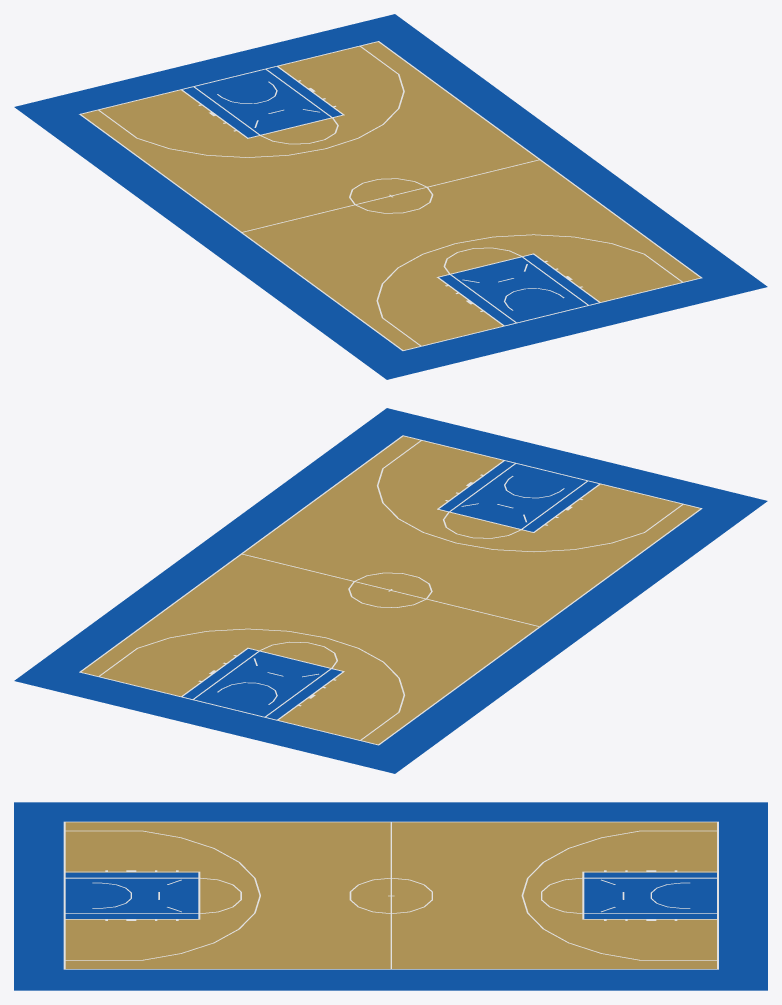
Rendered from BasketballCourt.fbx.
The picture shows the model from 3 angles, top to bottom: view 1: azimuth 30°, elevation 25°; view 2: azimuth 150°, elevation 25°; view 3: azimuth 270°, elevation 25°; orthographic projection.
Parts seen in each view (by area): view 1: BasketballCourt; view 2: BasketballCourt; view 3: BasketballCourt.
Boxes of the visible parts, left/top/right/bottom form: BasketballCourt: left=14, top=14, right=767, bottom=379; BasketballCourt: left=14, top=408, right=767, bottom=773; BasketballCourt: left=14, top=802, right=767, bottom=990.
Size of the model in its own units: 1884 by 3.52 by 3193.
